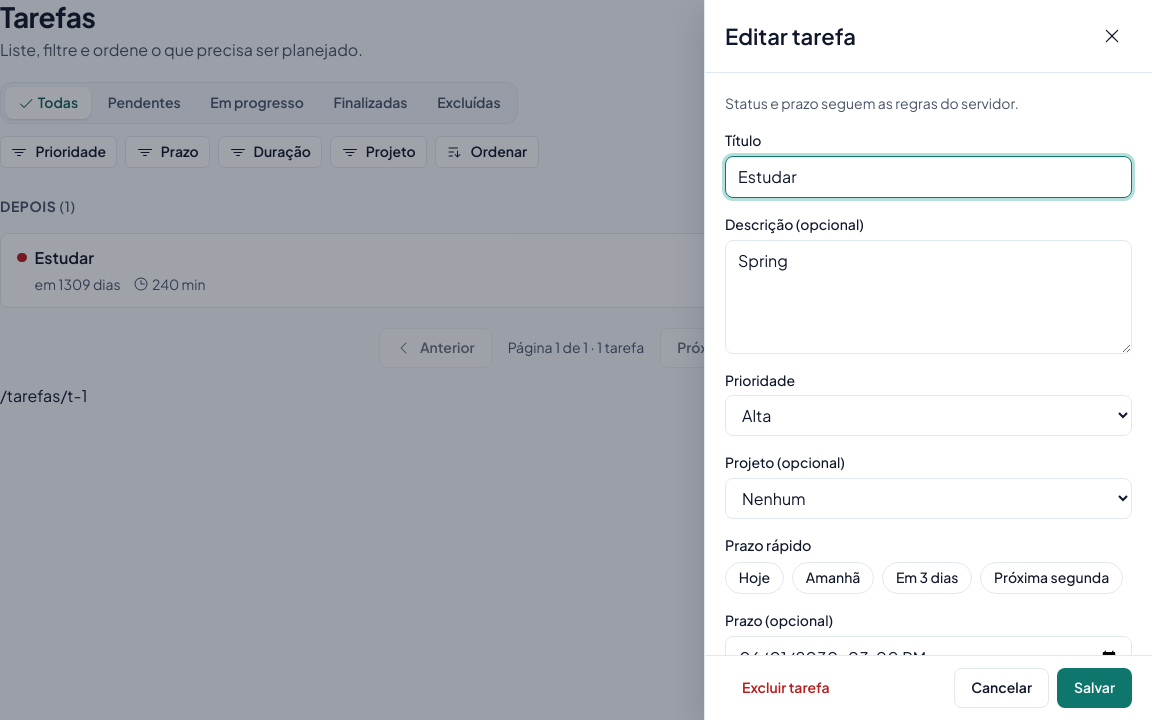
Test: TarefaDrawer › rotas › T4: fechar com alterações pede confirmação; continuar editando mantém o drawer
The width and height of the screenshot is (1152, 720).
Type " mais" into the field labelled "Título".
click(928, 177); type(" mais")  # box [725,156,1132,198]
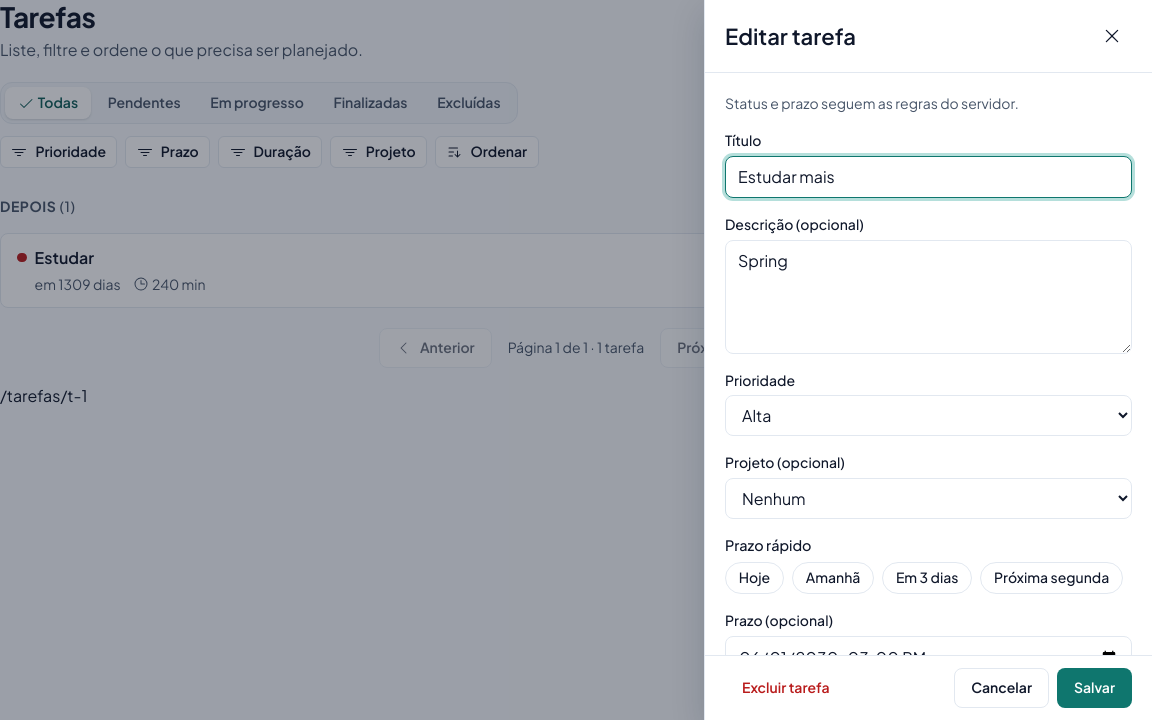
Click the button named "Fechar".
click(1112, 36)  # box [1092,16,1132,56]
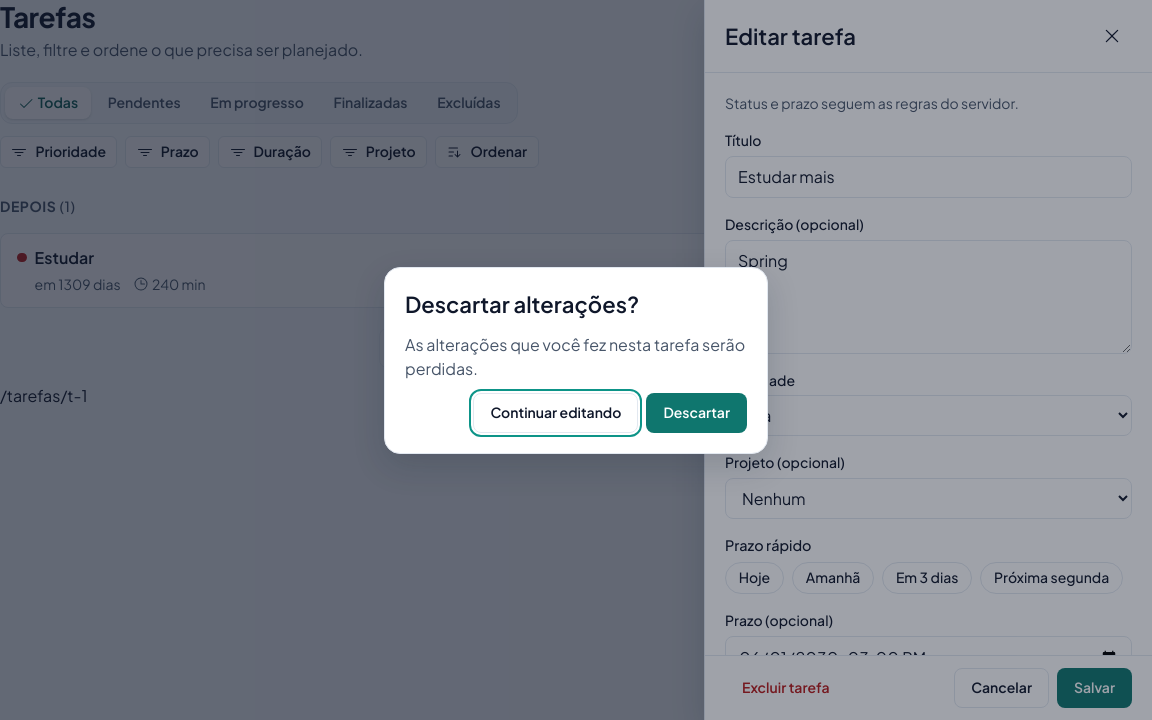
Click the button "Continuar editando".
click(556, 412)  # box [473,392,638,432]
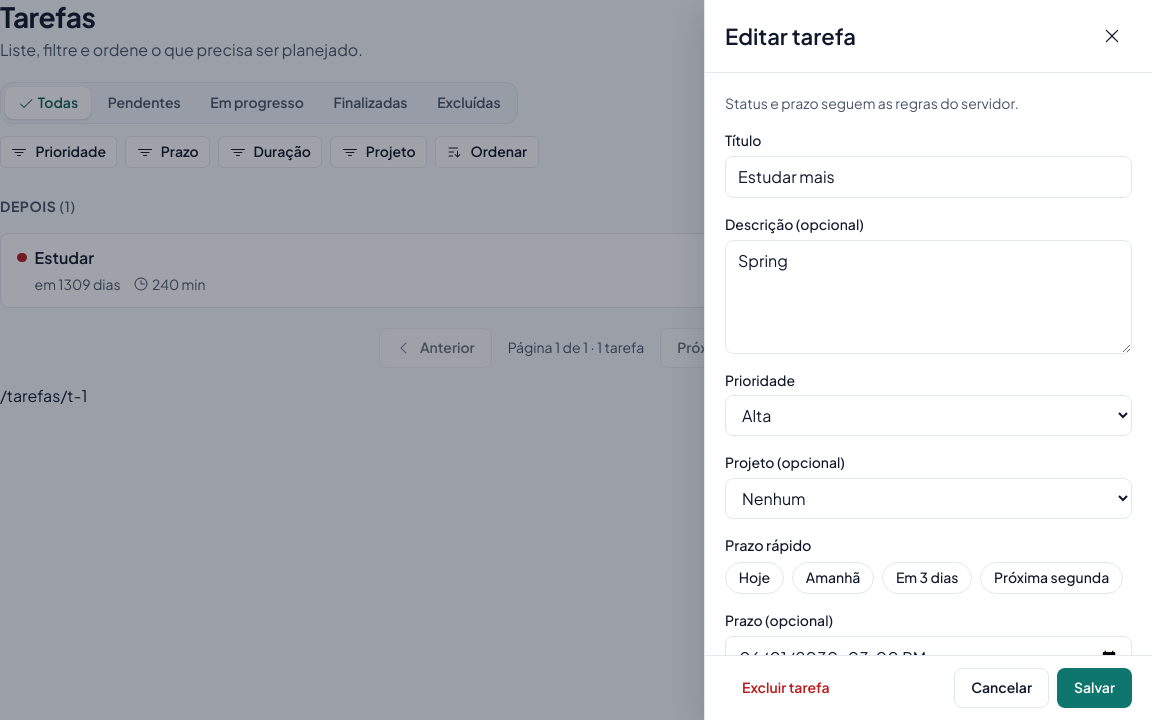
Check: the dialog "Editar tarefa" is shown, box [704,0,1151,719]
Check: the field labelled "Título" holds "Estudar mais", box [725,156,1132,198]
Click the button named "Fechar".
click(1112, 36)  # box [1092,16,1132,56]
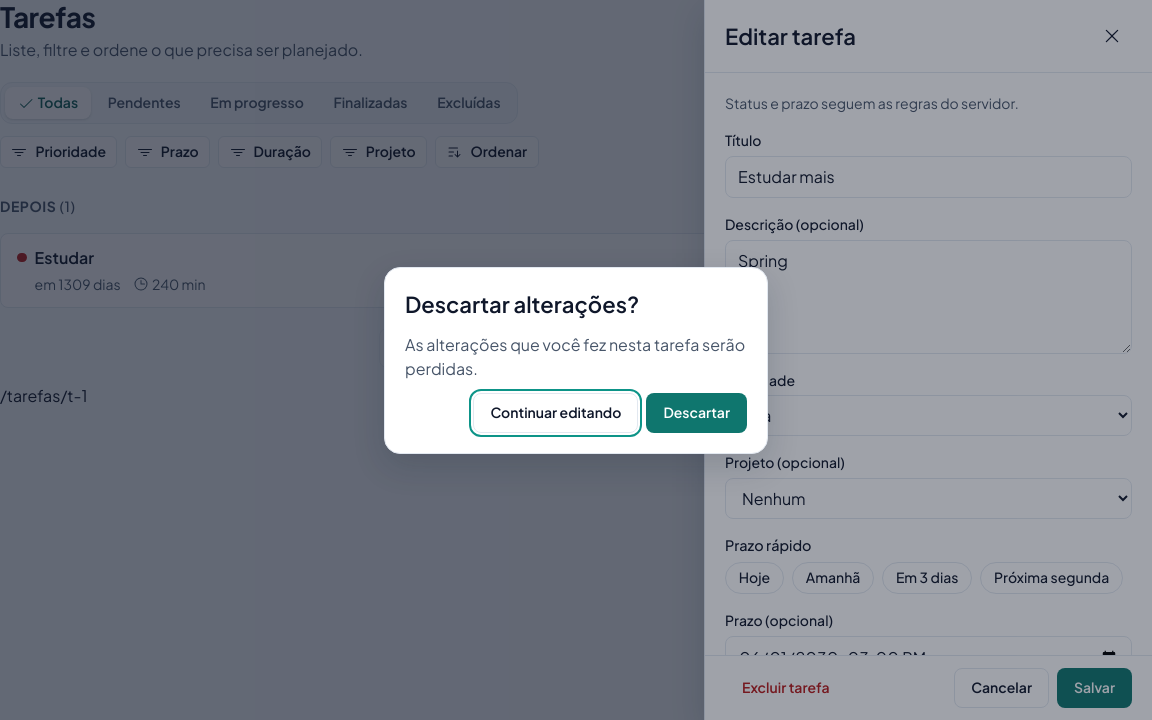
Click the button "Descartar".
click(697, 412)  # box [646,392,747,432]
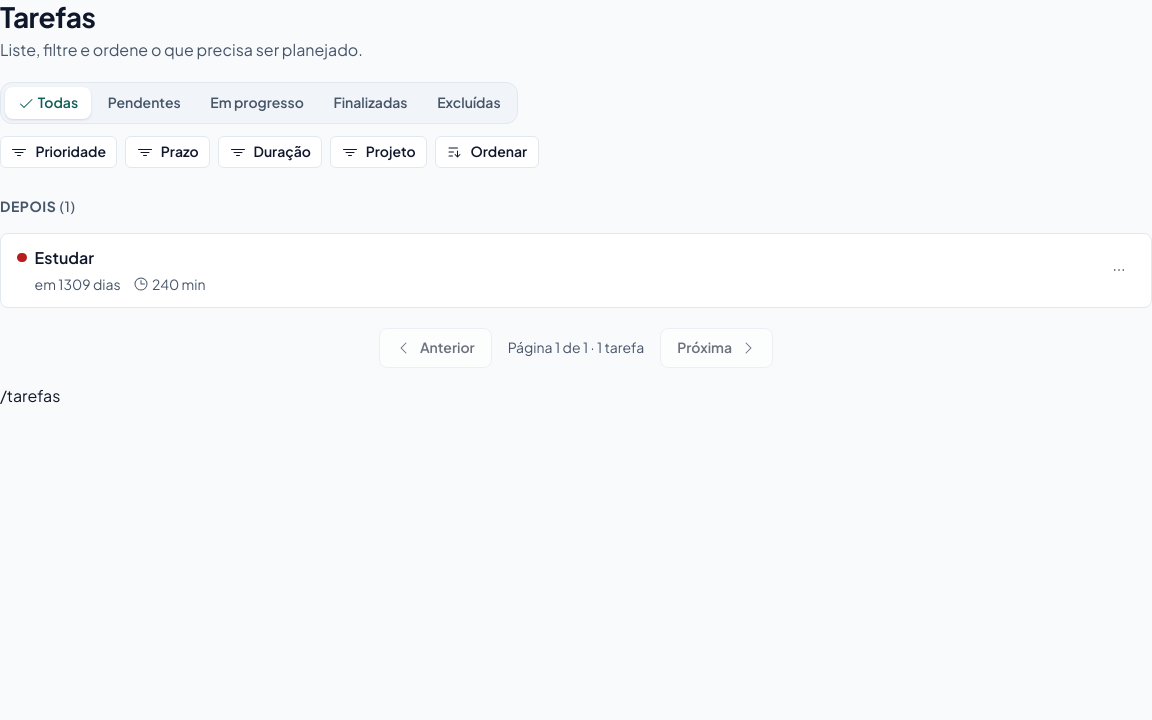
Check: the heading "Editar tarefa" is gone
